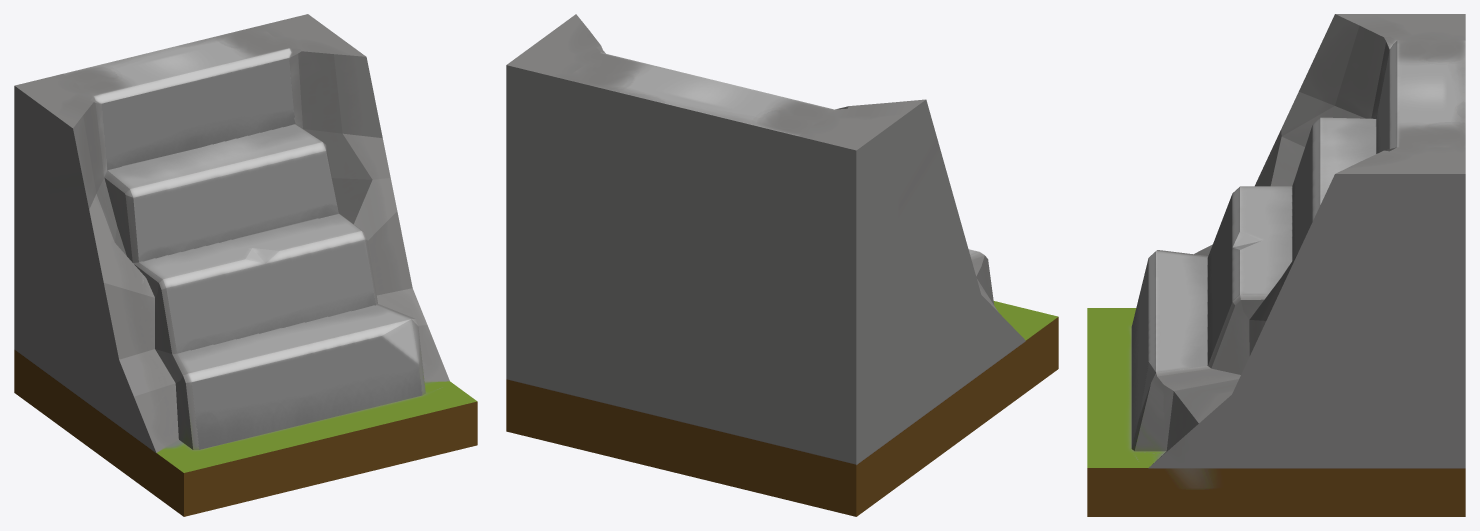
File: stairs.fbx
3 renders of one model, left to right at view 1: azimuth 30°, elevation 25°; view 2: azimuth 150°, elevation 25°; view 3: azimuth 270°, elevation 25°, orthographic. The views are drawn at different scales.
Visible parts, largest first — view 1: escaleras; view 2: escaleras; view 3: escaleras.
Boxes of the visible parts, x1,y1,x2,y2 form: escaleras: (14, 14, 477, 516); escaleras: (506, 14, 1058, 516); escaleras: (1087, 14, 1465, 516).
Bounding box in the file's own units: 200 × 200 × 200.
1 material, 1 textured.
